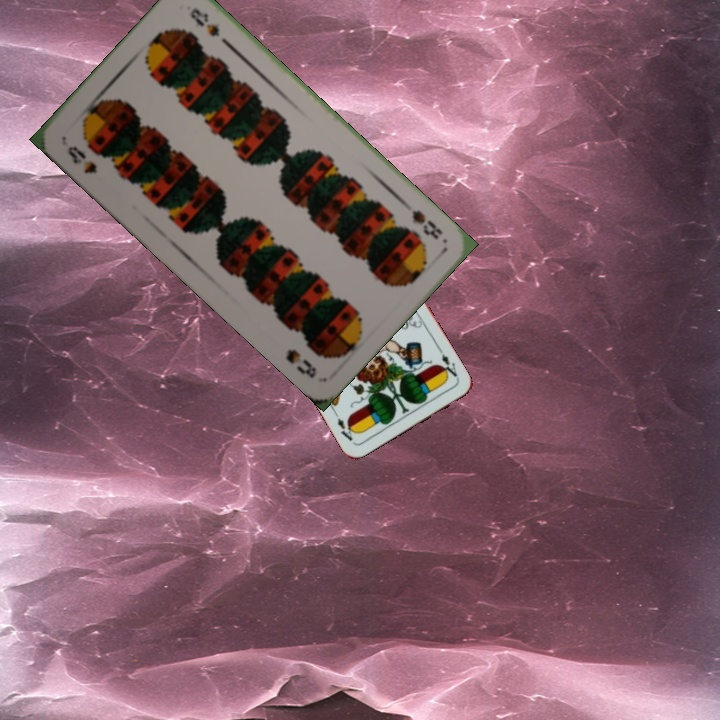EA: (436, 350, 461, 382)
S8: (407, 206, 445, 242), (63, 141, 100, 176)
